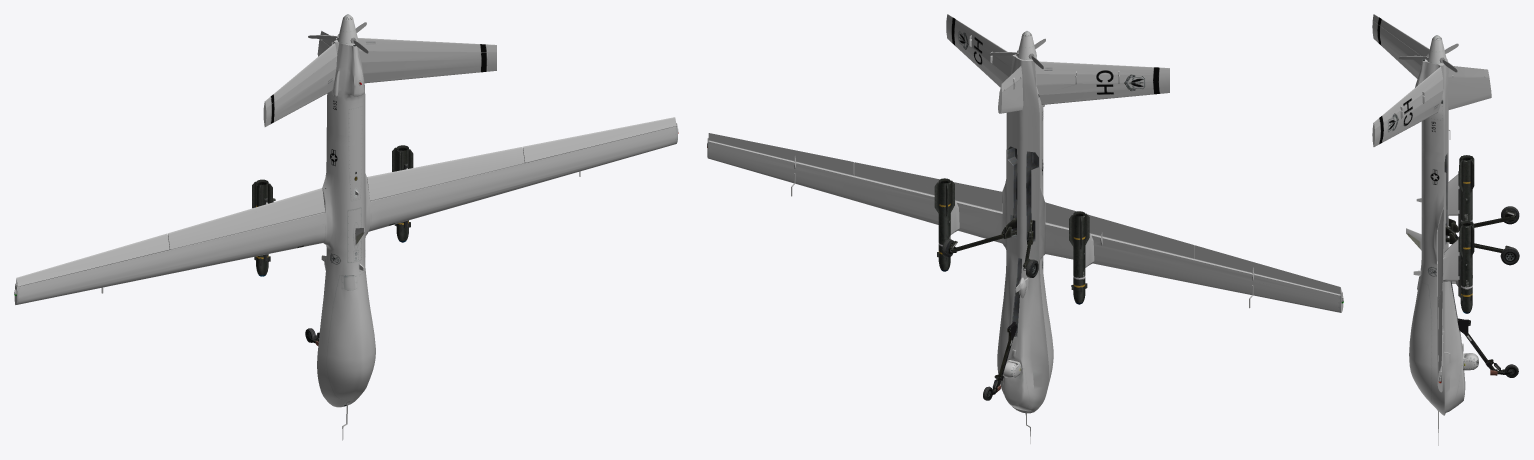
File: dron-mq9.glb
3 views of the same model, side by side, from view 1: azimuth 30°, elevation 25°; view 2: azimuth 150°, elevation 25°; view 3: azimuth 270°, elevation 25° (orthographic). The views are drawn at different scales.
Visible parts, largest first — view 1: Object_5, Object_2, Object_4; view 2: Object_5, Object_2, Object_4; view 3: Object_5, Object_2, Object_4, Object_3.
Part boxes in pixels (<box>): Object_5: <box>14,31,678,440</box>; Object_2: <box>252,145,413,276</box>; Object_4: <box>101,14,580,345</box>; Object_5: <box>707,14,1343,443</box>; Object_2: <box>934,178,1089,304</box>; Object_4: <box>791,31,1253,400</box>; Object_5: <box>1372,14,1519,445</box>; Object_2: <box>1459,155,1474,313</box>; Object_4: <box>1427,35,1518,377</box>; Object_3: <box>1373,21,1484,77</box>.
Size of the model in its own units: 116 by 71.85 by 23.19.
3 materials, 2 textured.
